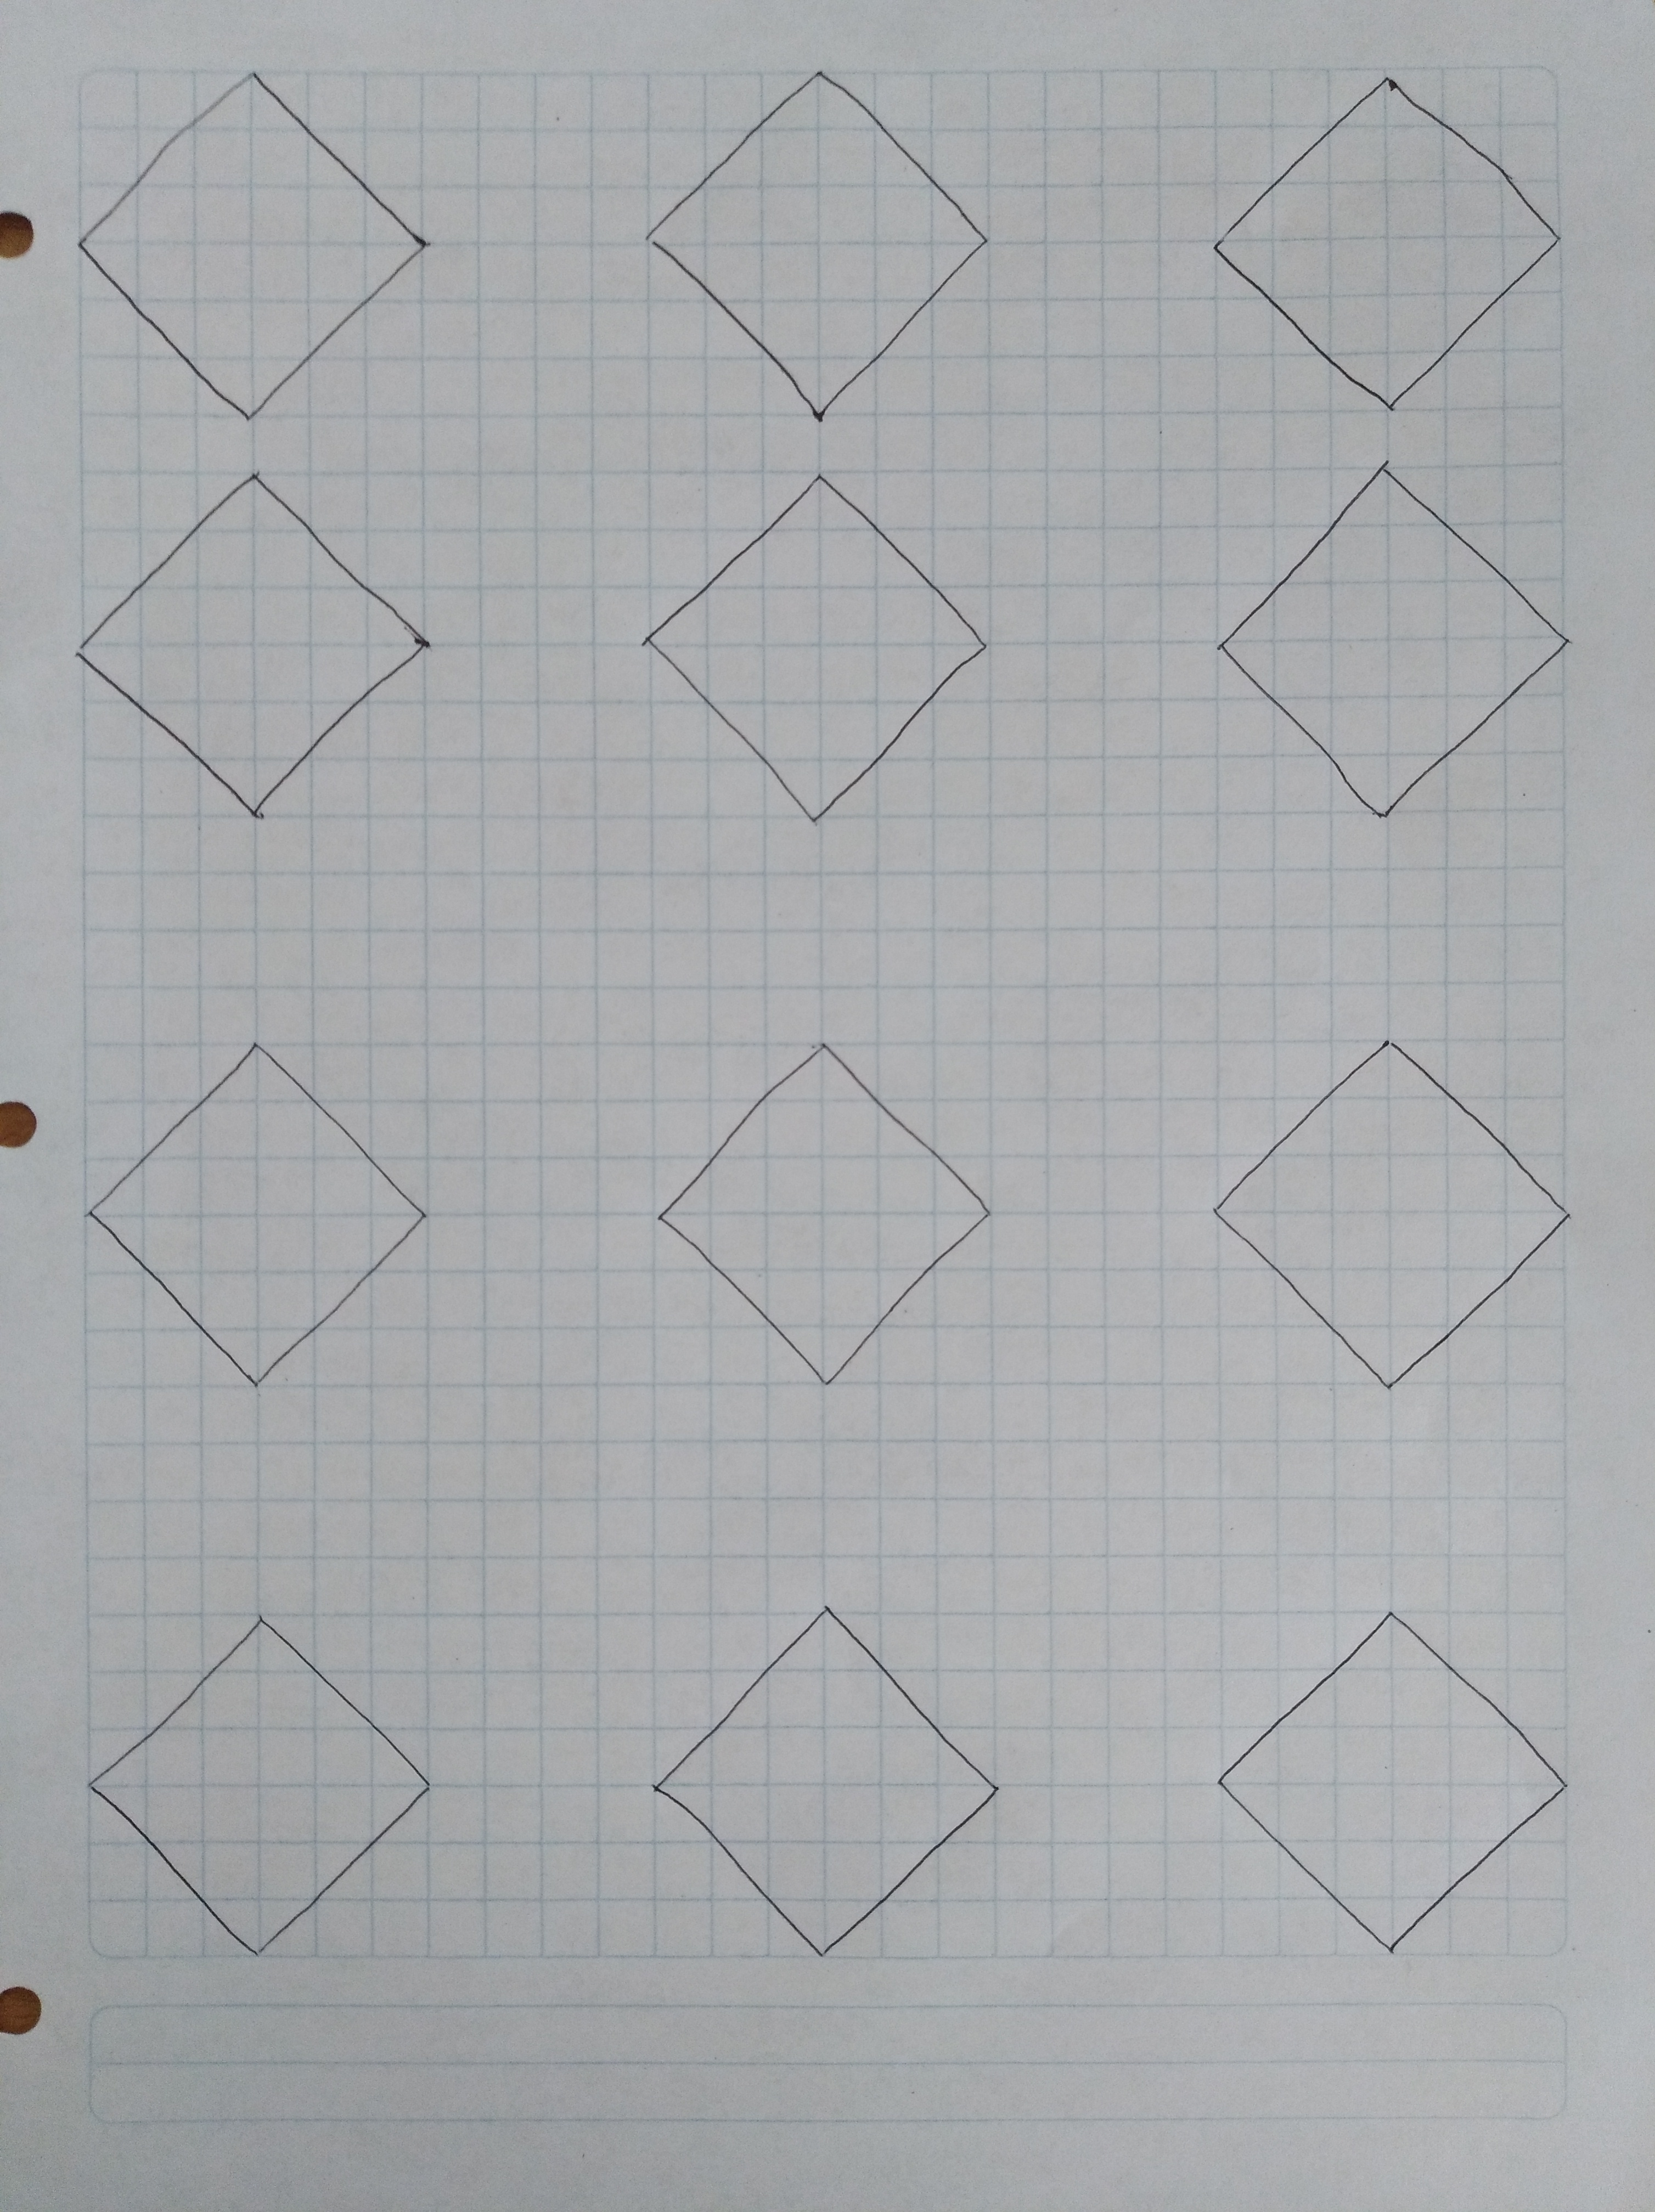decision: (1147, 452, 1615, 848), (596, 1017, 1048, 1411), (30, 457, 480, 848), (1189, 1006, 1598, 1435), (1179, 1576, 1601, 1979), (54, 1580, 476, 1974), (615, 1583, 1038, 1977), (619, 36, 1027, 441), (57, 1013, 455, 1414), (589, 467, 1003, 841), (54, 54, 445, 434), (1196, 57, 1587, 427)
